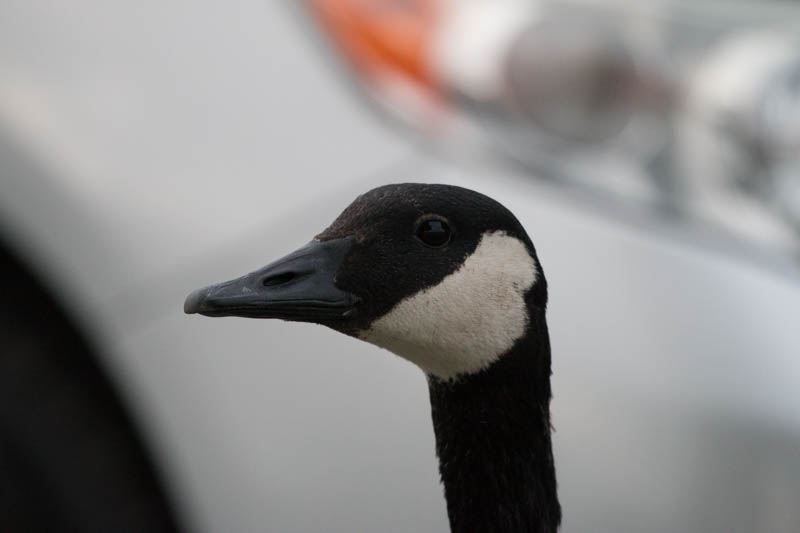goose-head: (183, 183, 551, 382)
